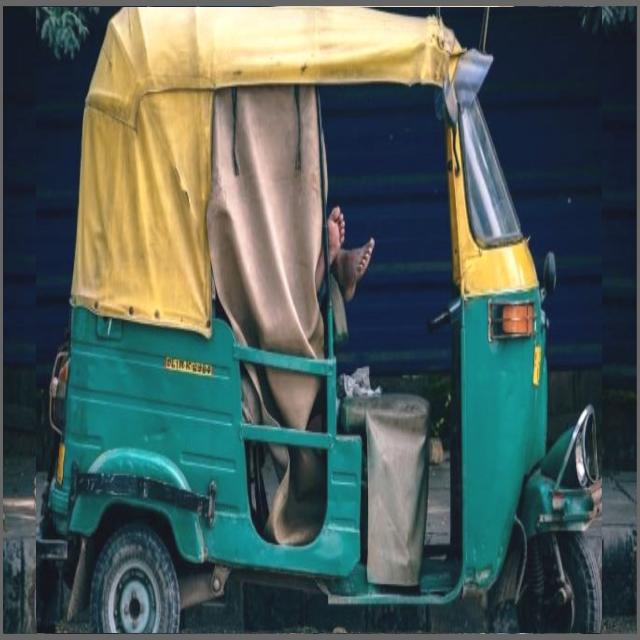autorickshaw: (36, 7, 601, 633)
